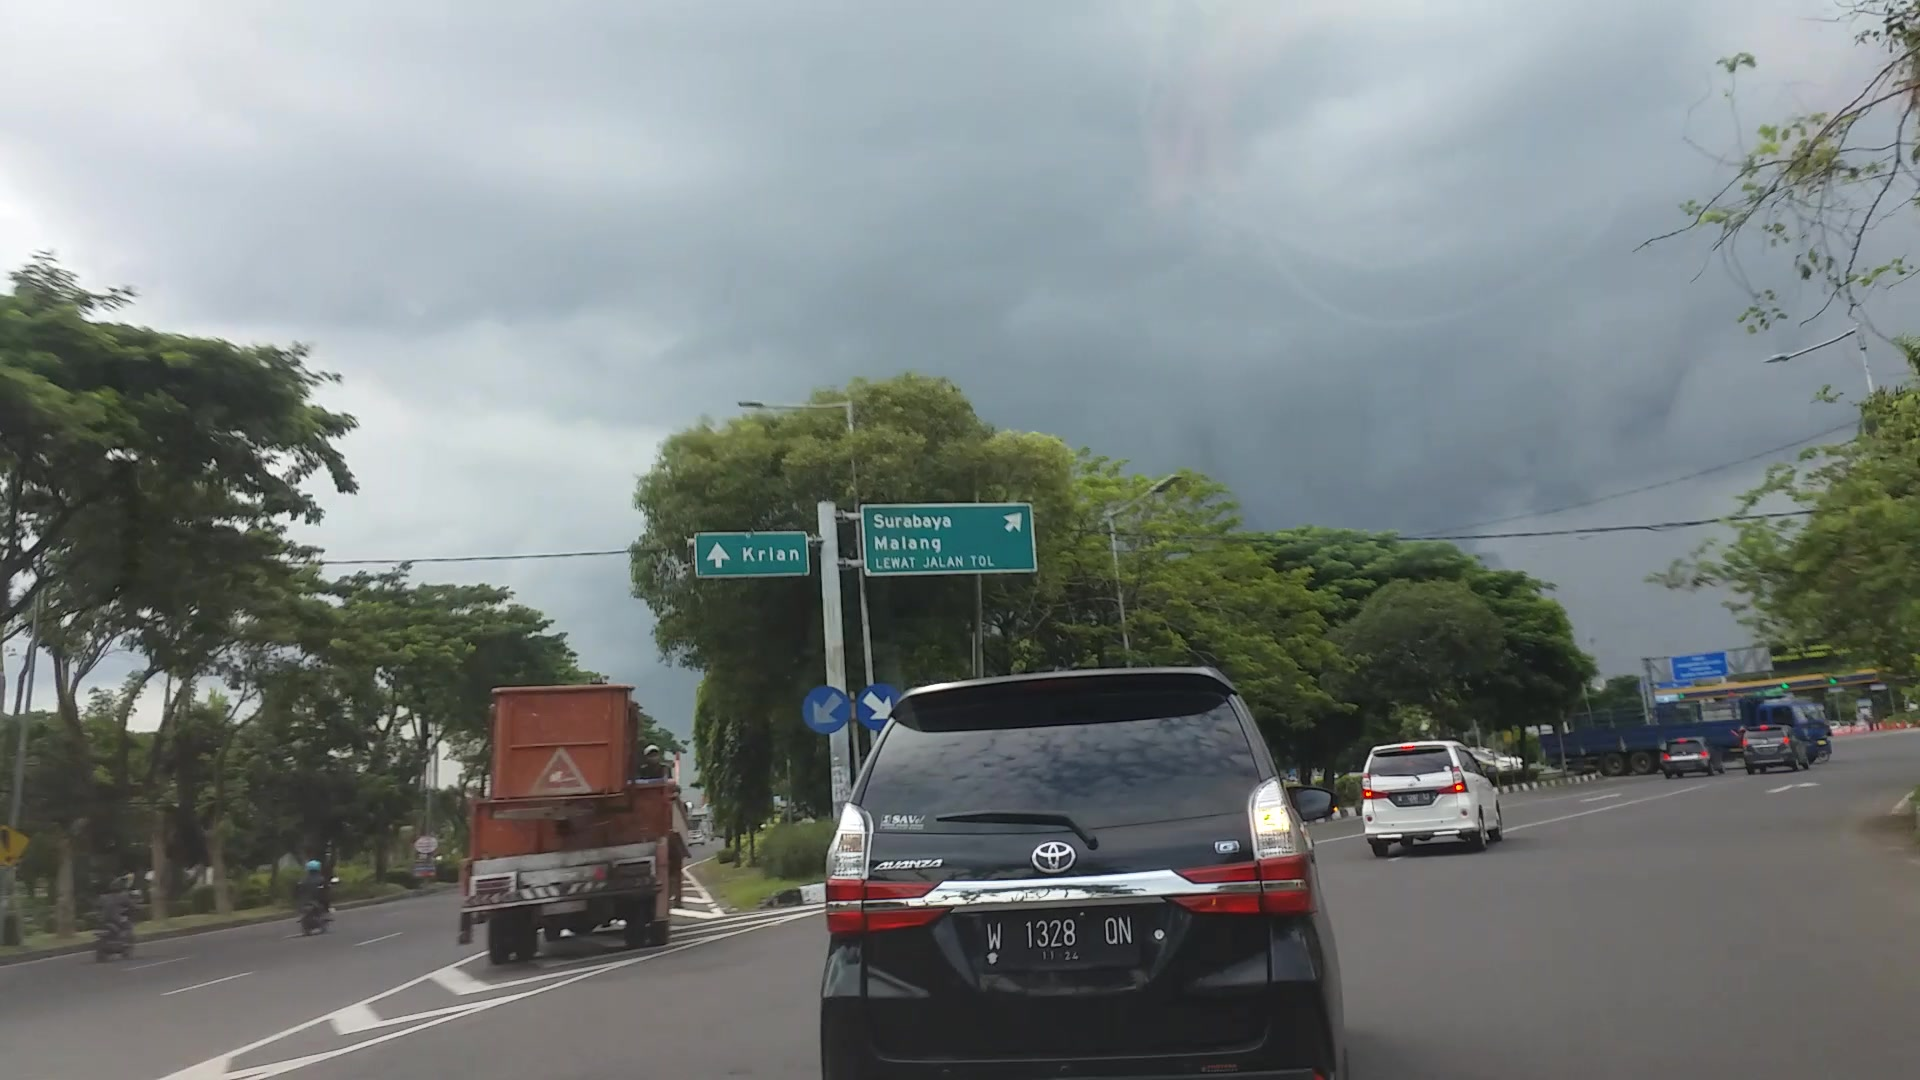plate_positive: (981, 914, 1138, 969)
